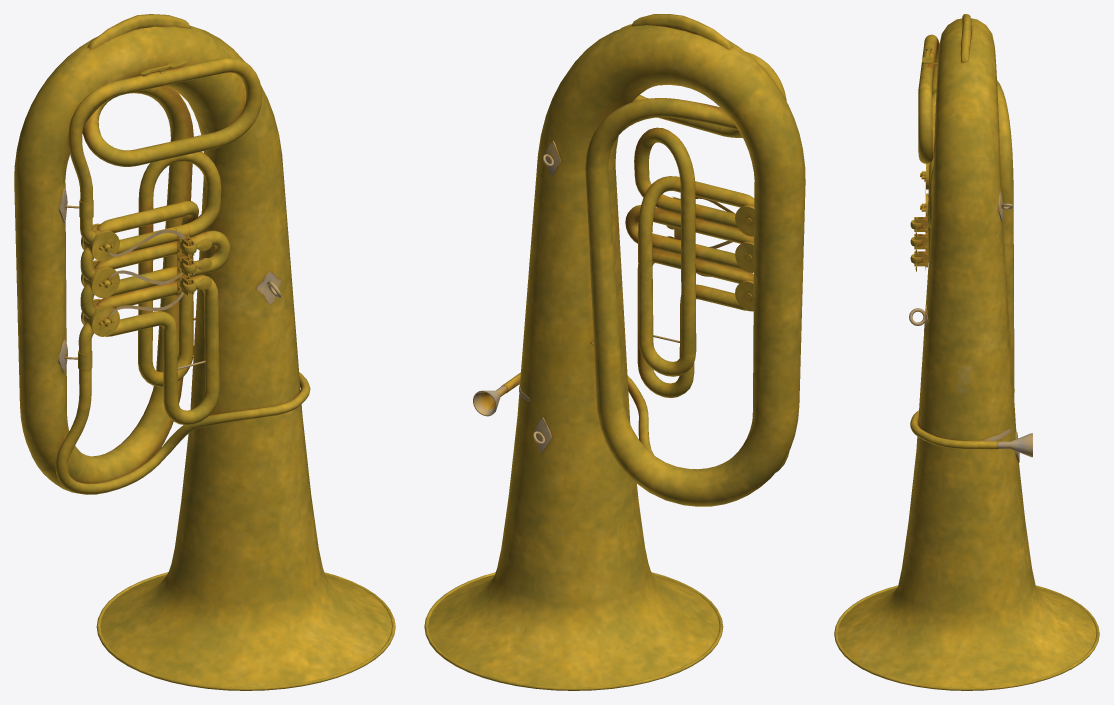
Rendered from orchestral-trumpet---оркестровая-труба-73edd3.glb.
3 views of the same model, side by side, from view 1: azimuth 30°, elevation 25°; view 2: azimuth 150°, elevation 25°; view 3: azimuth 270°, elevation 25° (orthographic). The views are drawn at different scales.
Parts seen in each view (by area): view 1: PropMesh; view 2: PropMesh; view 3: PropMesh.
Part boxes in pixels (x1,y1,x2,y2): PropMesh: (14,14,395,690); PropMesh: (424,14,805,690); PropMesh: (834,14,1099,690).
Size of the model in its own units: 0.2933 by 0.5 by 0.2121.
Materials: 1 (1 with a texture image).
